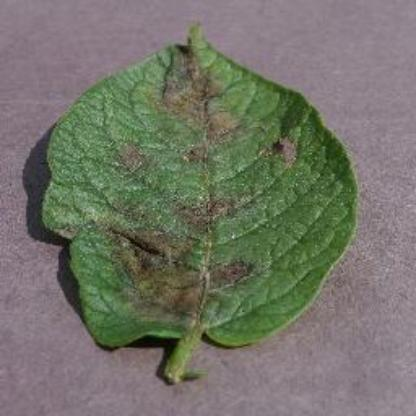Late-Blight: (35, 18, 363, 384)
